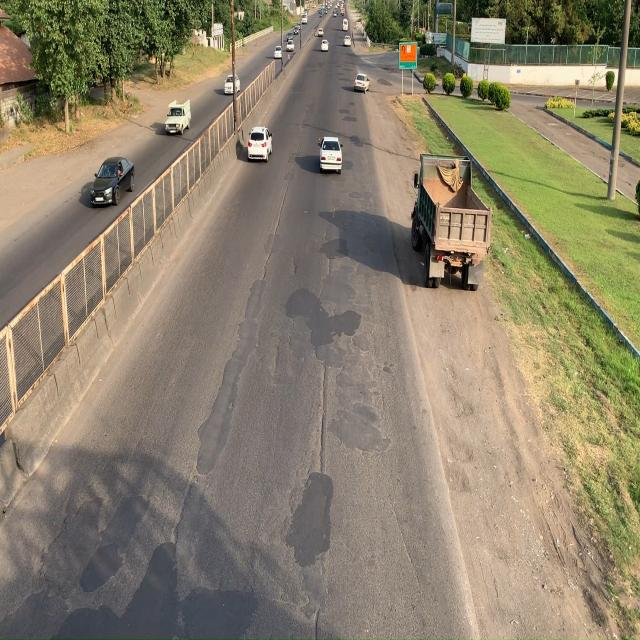Truck: (414, 148, 499, 290)
cars: (89, 151, 135, 207), (318, 129, 343, 175), (247, 124, 274, 162)
